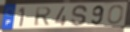1: (18, 7, 26, 28)
4: (54, 6, 68, 27)
9: (91, 5, 104, 25)
O: (106, 5, 125, 26)
R: (34, 6, 53, 27)
S: (70, 4, 89, 27)
